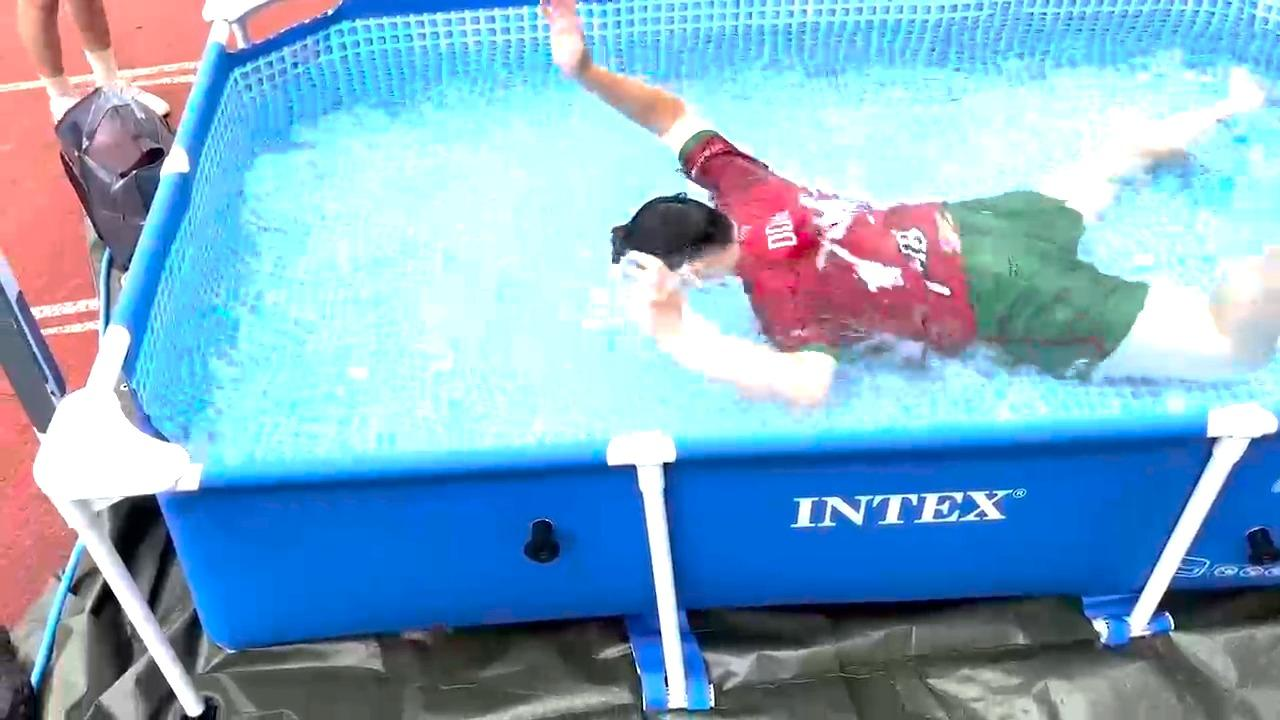Drowning: (505, 0, 1280, 409)
